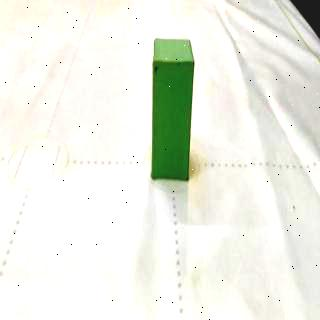greenbox: (151, 34, 195, 184)
